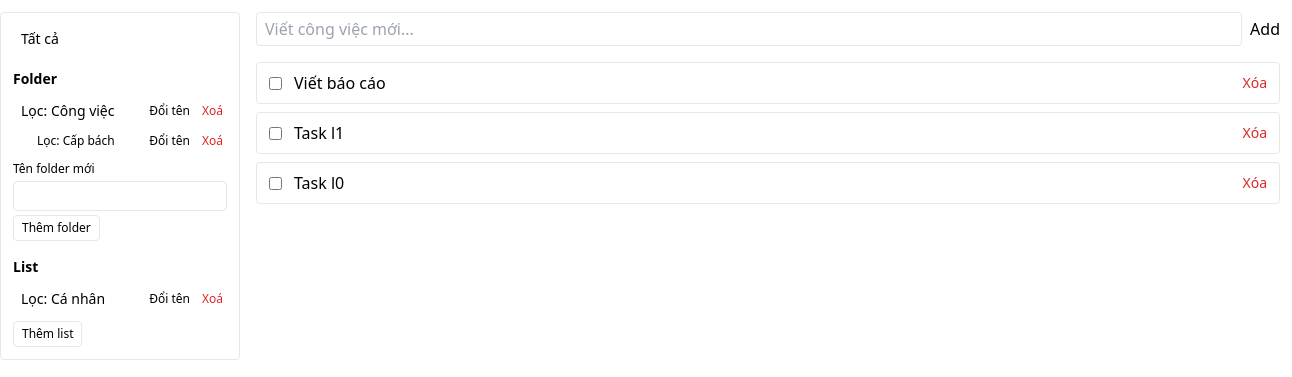
TasksWorkspace filter › lọc theo list chỉ còn task của list đó
The image size is (1292, 377).
Click the button "Lọc: Cấp bách".
click(85, 141)  # box [29,129,141,153]
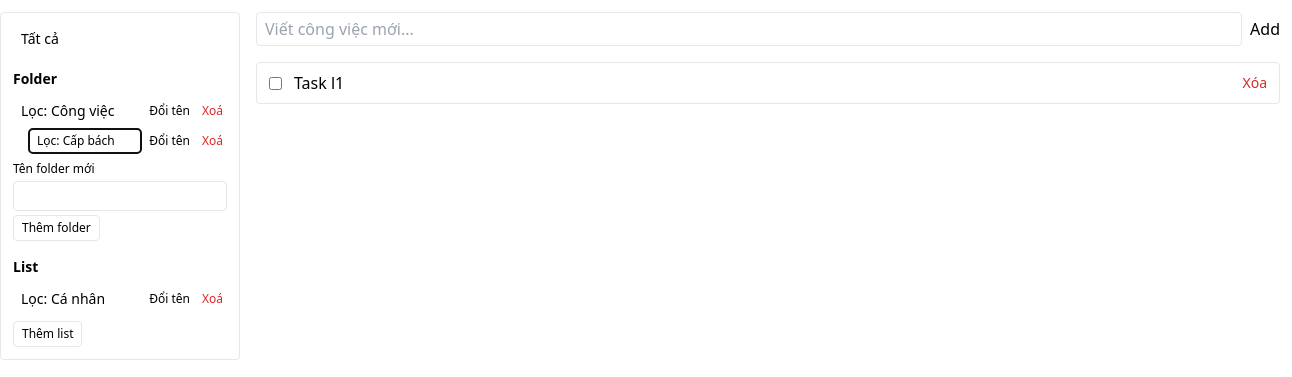
Expected: the text "Task l1" is shown, [294,72,344,94]
Now the button "Viết báo cáo" is gone
Now the button "Task l0" is gone
